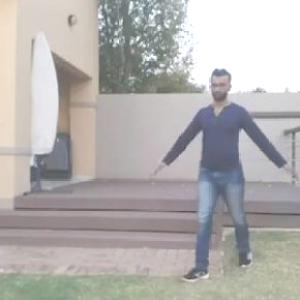land: (146, 64, 299, 287)
